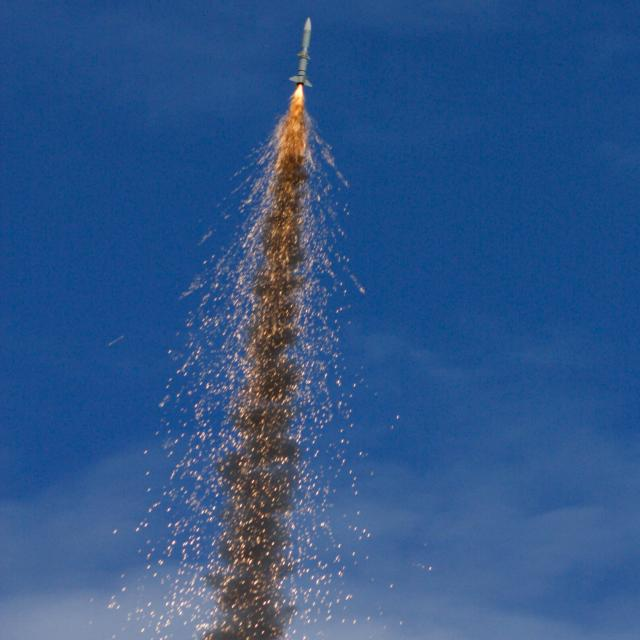Rocket: (288, 17, 312, 88)
